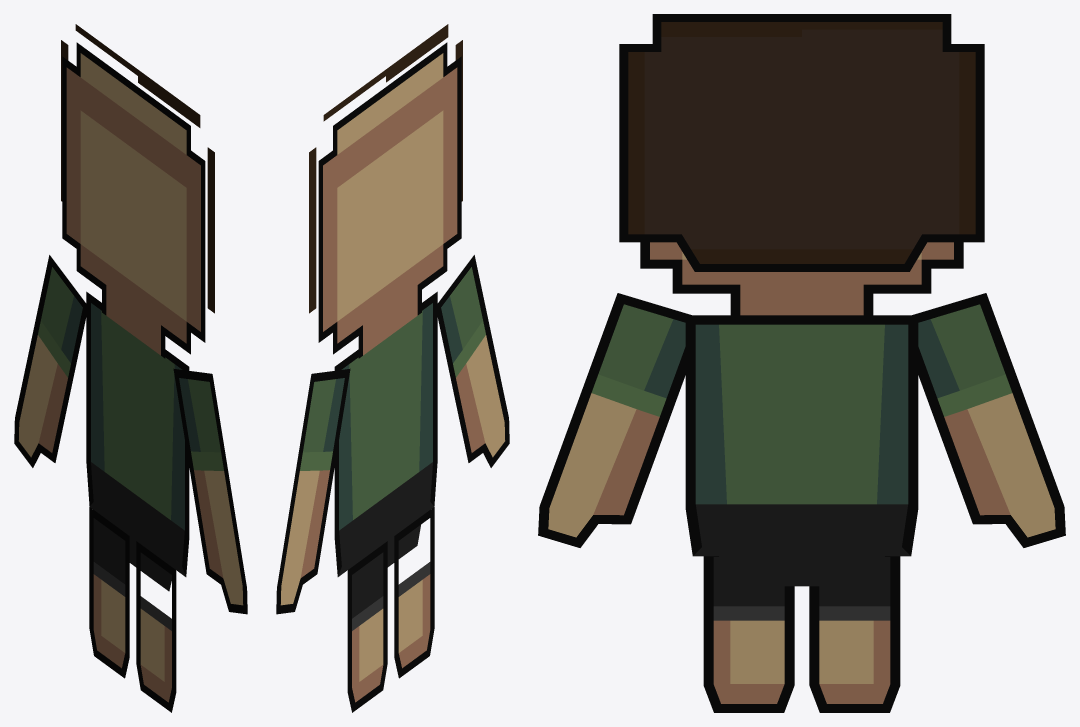
File: KEVIN (Back).fbx
3 views of the same model, side by side, from view 1: azimuth 30°, elevation 25°; view 2: azimuth 150°, elevation 25°; view 3: azimuth 270°, elevation 25° (orthographic). The views are drawn at different scales.
Visible parts, largest first — view 1: Plane.020, Plane.066, Plane.023, Plane.019, Plane.021; view 2: Plane.020, Plane.066, Plane.023, Plane.019, Plane.021; view 3: Plane.021, Plane.066, Plane.023, Plane.019, Plane.020.
Part boxes in pixels (<box>): Plane.020: <box>62,42,205,358</box>; Plane.066: <box>86,291,189,591</box>; Plane.023: <box>14,255,247,614</box>; Plane.019: <box>89,507,176,712</box>; Plane.021: <box>61,24,214,313</box>; Plane.020: <box>318,42,461,358</box>; Plane.066: <box>334,291,437,576</box>; Plane.023: <box>276,255,509,614</box>; Plane.019: <box>347,507,434,712</box>; Plane.021: <box>309,24,462,313</box>; Plane.021: <box>619,14,984,271</box>; Plane.066: <box>685,315,918,586</box>; Plane.023: <box>538,293,1065,547</box>; Plane.019: <box>703,556,900,712</box>; Plane.020: <box>640,242,963,315</box>.
Size of the model in its own units: 5 by 424 by 289.
